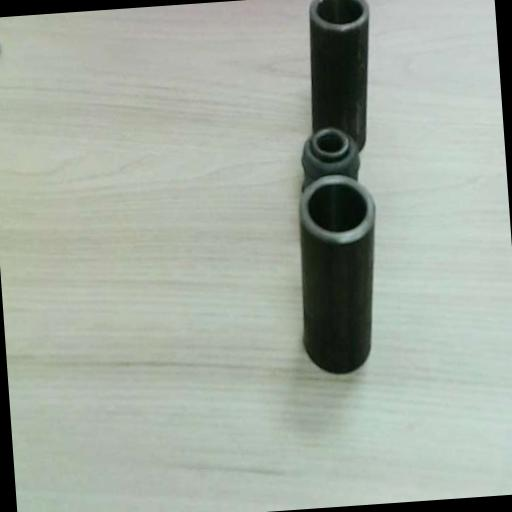peca: (299, 175, 374, 373), (309, 0, 367, 149), (301, 127, 360, 190)
